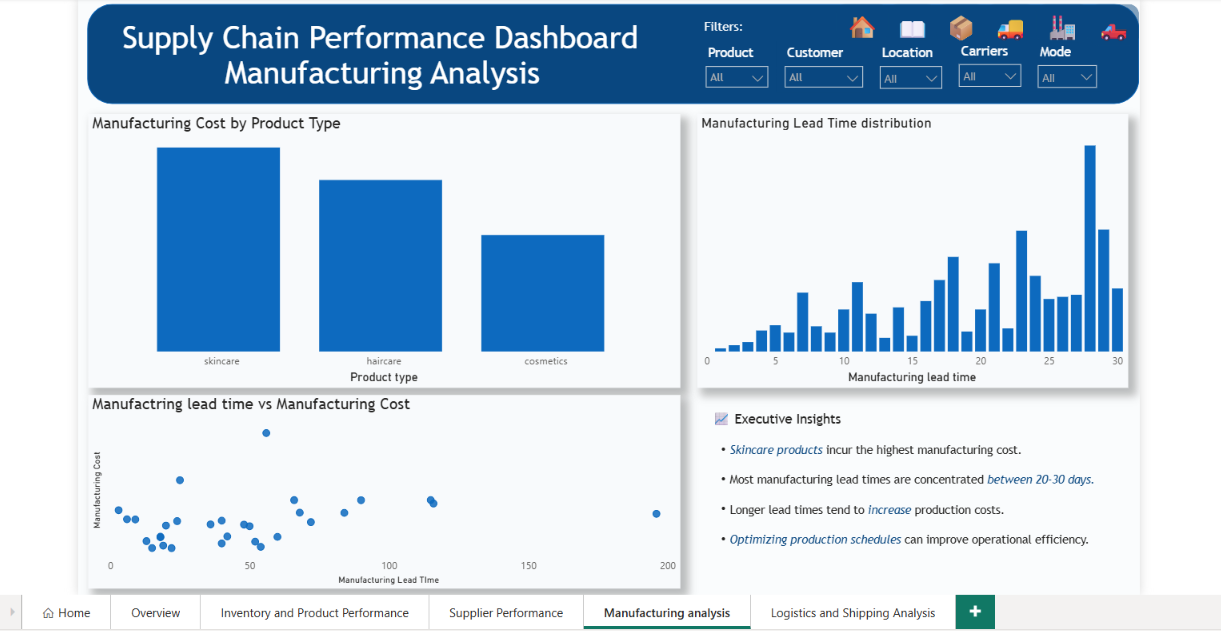

Layout of this report page (visuals, bound fields, positions):
{"tool":"powerbi","page":{"name":"Manufacturing analysis","canvas":[1280,720],"ordinal":4},"visuals":[{"type":"shape","box":[10.9,7.2,1269.2,120.6],"z":0},{"type":"actionButton","box":[914.5,7.2,62.7,44.3],"z":0,"group":"g2"},{"type":"slicer","fields":{"Values":["Sheet1.Product type"]},"box":[746.8,51.9,95.3,60.3],"z":0,"group":"g1"},{"type":"actionButton","title":"Overview Page","box":[977.2,7.2,57.9,44.3],"z":1000,"group":"g2"},{"type":"textbox","box":[48.3,20.5,678,107.4],"z":1000},{"type":"slicer","fields":{"Values":["Sheet1.Customer demographics"]},"box":[842.1,51.9,114.6,62.7],"z":1000,"group":"g1"},{"type":"actionButton","title":"Inventory and Product","box":[1035.1,7.2,60.3,47.5],"z":2000,"group":"g2"},{"type":"textbox","box":[639.4,20.5,278.7,42.2],"z":2000},{"type":"slicer","fields":{"Values":["Sheet1.Transportation modes"]},"box":[1147.3,50.7,91.7,61.5],"z":2000,"group":"g1"},{"type":"actionButton","title":"Supplier Performance","box":[1094.2,7.2,61.5,47.5],"z":3000,"group":"g2"},{"type":"slicer","fields":{"Values":["Sheet1.Shipping carriers"]},"box":[1052,49.5,95.3,67.6],"z":3000,"group":"g1"},{"type":"columnChart","title":"Manufacturing Cost by Product Type","fields":{"Category":["Sheet1.Product type"],"Y":["Sum(Sheet1.Manufacturing costs)"]},"box":[12.1,139.9,714.2,330.6],"z":3000},{"type":"actionButton","title":"Manufacturing Analysis","box":[1155.7,7.2,63.9,46.4],"z":4000,"group":"g2"},{"type":"slicer","fields":{"Values":["Sheet1.Location"]},"box":[956.7,51.9,95.3,60.3],"z":4000,"group":"g1"},{"type":"scatterChart","title":"Manufactring lead time vs Manufacturing Cost","fields":{"X":["Sum(Sheet1.Manufacturing lead time)"],"Category":["Sheet1.Manufacturing lead time"],"Y":["Sum(Sheet1.Manufacturing costs)"]},"box":[11.5,479,714.2,233.7],"z":4000},{"type":"actionButton","title":"Logistics and Shipping","box":[1219.7,7.2,60.3,50.7],"z":5000,"group":"g2"},{"type":"clusteredColumnChart","title":"Manufacturing Lead Time distribution","fields":{"Category":["Sheet1.Manufacturing lead time"],"Y":["Sum(Sheet1.Manufacturing lead time)"]},"box":[746.8,139.9,520,330.6],"z":5000},{"type":"group","id":"g1","title":"Group 1","box":[746.8,49.5,492.2,67.6],"z":6000},{"type":"textbox","box":[760.1,491,520,209.9],"z":7000},{"type":"group","id":"g2","title":"Group 2","box":[914.5,7.2,365.6,50.7],"z":8000}]}

Visuals, with their boxes on the page's 1280x720 design canvas (x1, y1, x2, y2). These are canvas units, not pixel positions in the 1221x631 screenshot, which may show the page scaled, cropped or inside an application window:
shape: (11,7,1280,128)
actionButton: (914,7,977,52)
slicer - Sheet1.Product type: (747,52,842,112)
"Overview Page" actionButton: (977,7,1035,52)
textbox: (48,20,726,128)
slicer - Sheet1.Customer demographics: (842,52,957,115)
"Inventory and Product" actionButton: (1035,7,1095,55)
textbox: (639,20,918,63)
slicer - Sheet1.Transportation modes: (1147,51,1239,112)
"Supplier Performance" actionButton: (1094,7,1156,55)
slicer - Sheet1.Shipping carriers: (1052,50,1147,117)
"Manufacturing Cost by Product Type" columnChart: (12,140,726,470)
"Manufacturing Analysis" actionButton: (1156,7,1220,54)
slicer - Sheet1.Location: (957,52,1052,112)
"Manufactring lead time vs Manufacturing Cost" scatterChart: (12,479,726,713)
"Logistics and Shipping" actionButton: (1220,7,1280,58)
"Manufacturing Lead Time distribution" clusteredColumnChart: (747,140,1267,470)
"Group 1" group: (747,50,1239,117)
textbox: (760,491,1280,701)
"Group 2" group: (914,7,1280,58)
